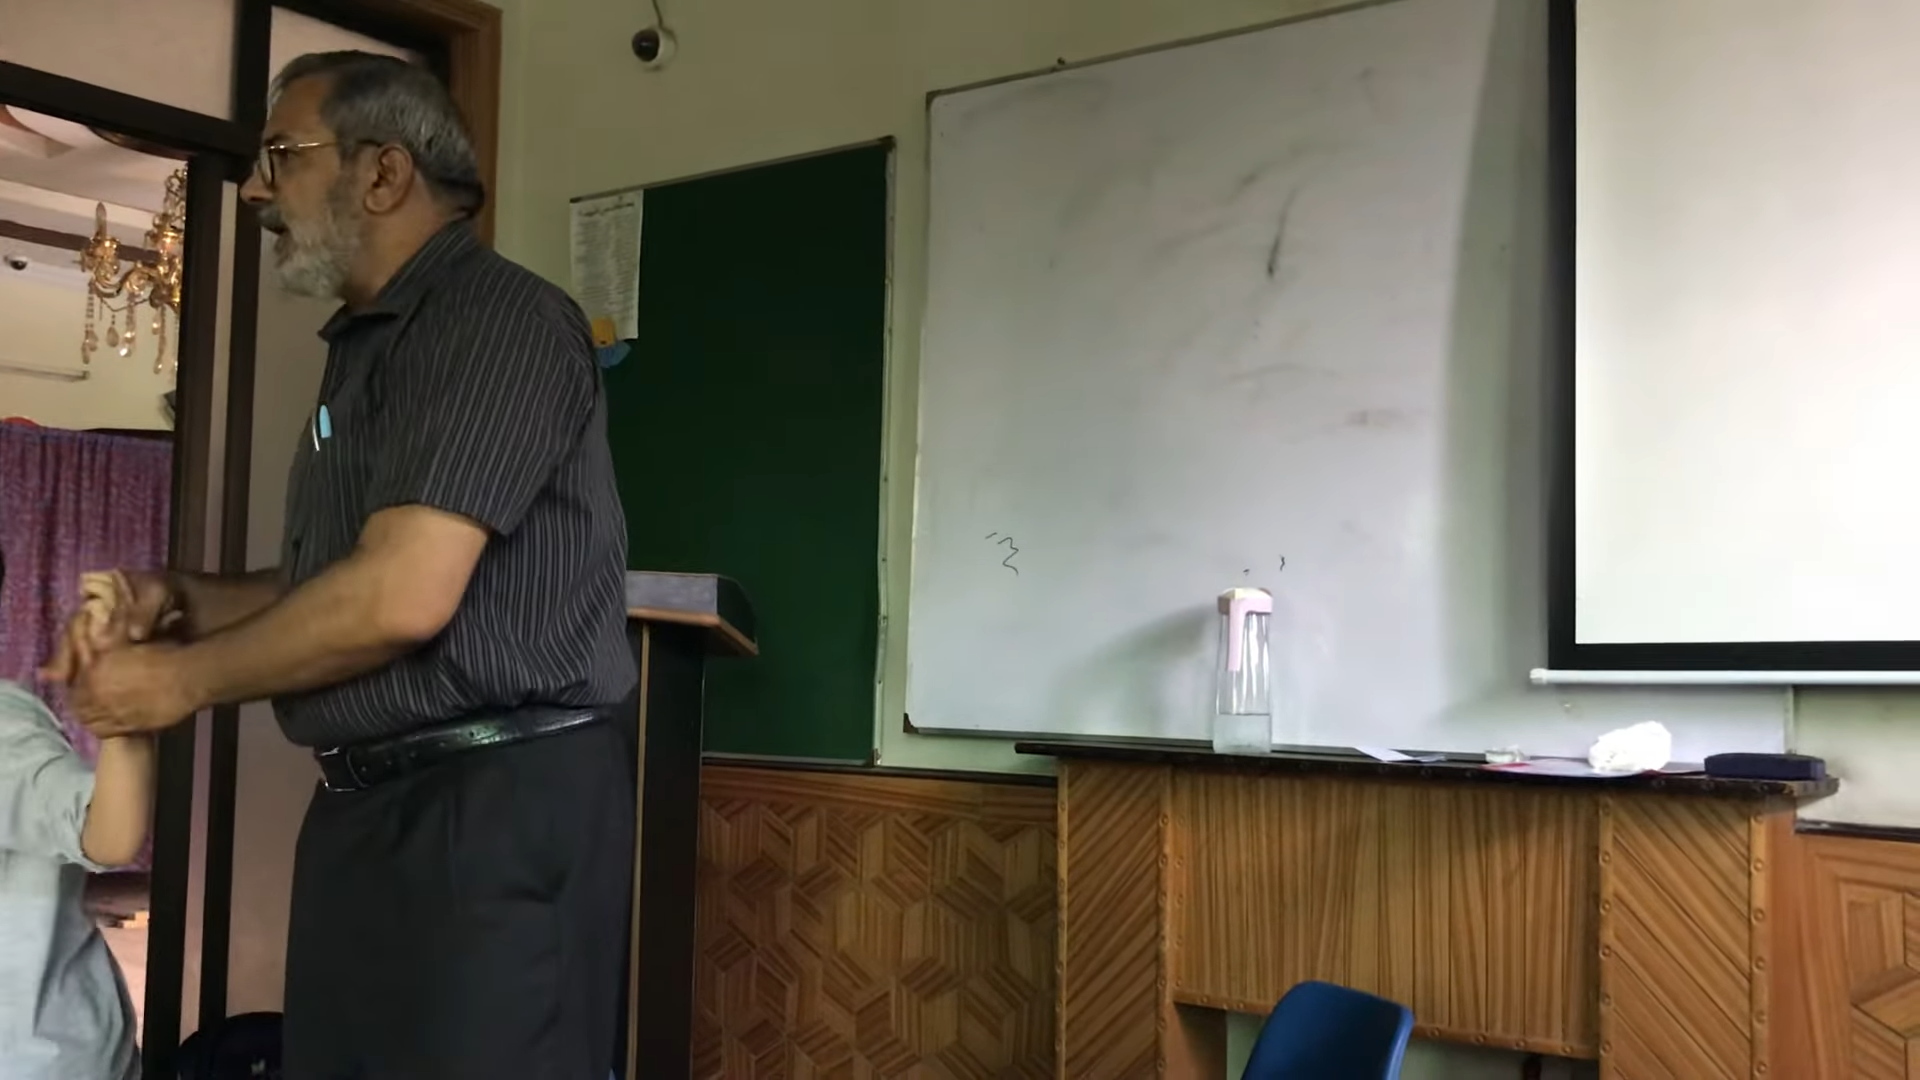Therapist: (90, 28, 675, 1080)
